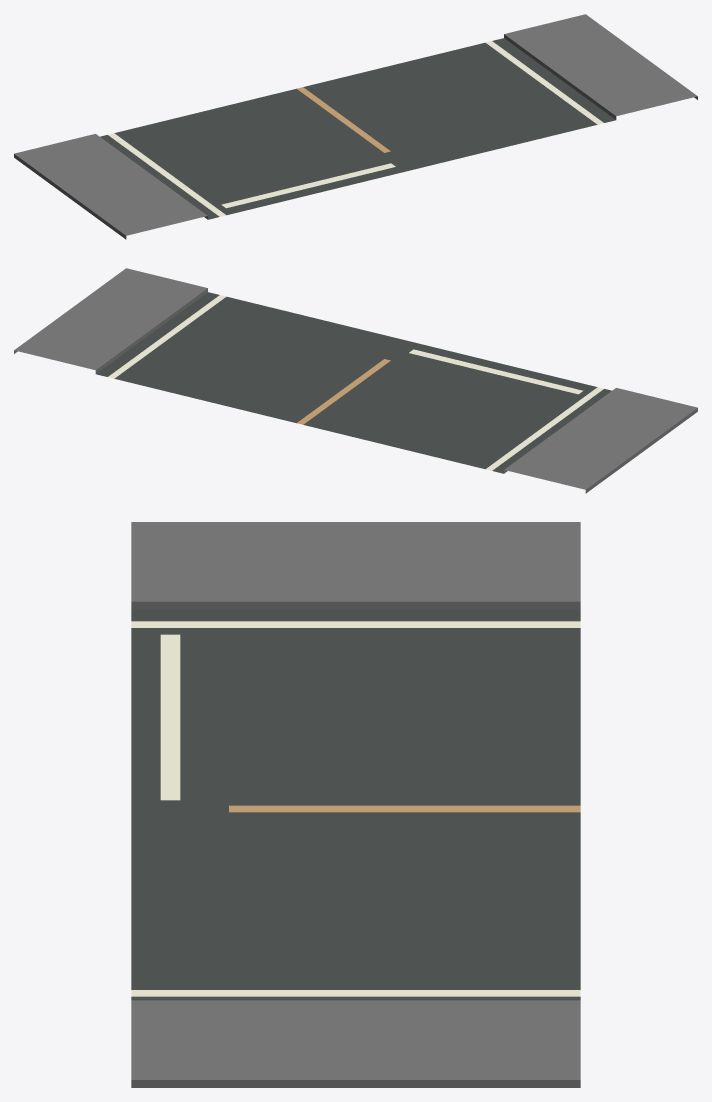
Rendered from Road_Stopline_2.fbx.
3 renders of one model, top to bottom at view 1: azimuth 30°, elevation 25°; view 2: azimuth 150°, elevation 25°; view 3: azimuth 270°, elevation 25°, orthographic. The views are drawn at different scales.
Visible parts, largest first — view 1: Road_Stopline_2; view 2: Road_Stopline_2; view 3: Road_Stopline_2.
Boxes of the visible parts, x1,y1,x2,y2 form: Road_Stopline_2: (14,14,697,239); Road_Stopline_2: (14,268,697,493); Road_Stopline_2: (131,522,580,1087).
Bounding box in the file's own units: 29.4 × 0.1948 × 10.
Materials: 1 (1 with a texture image).
